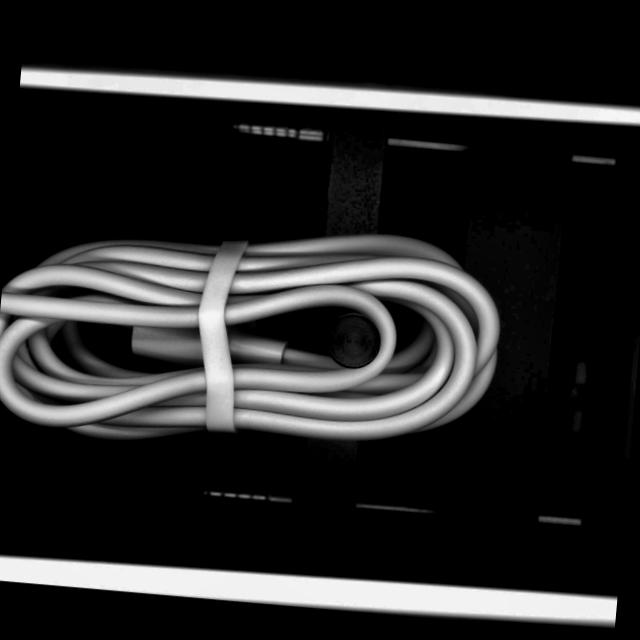Cable: (0, 194, 512, 476)
